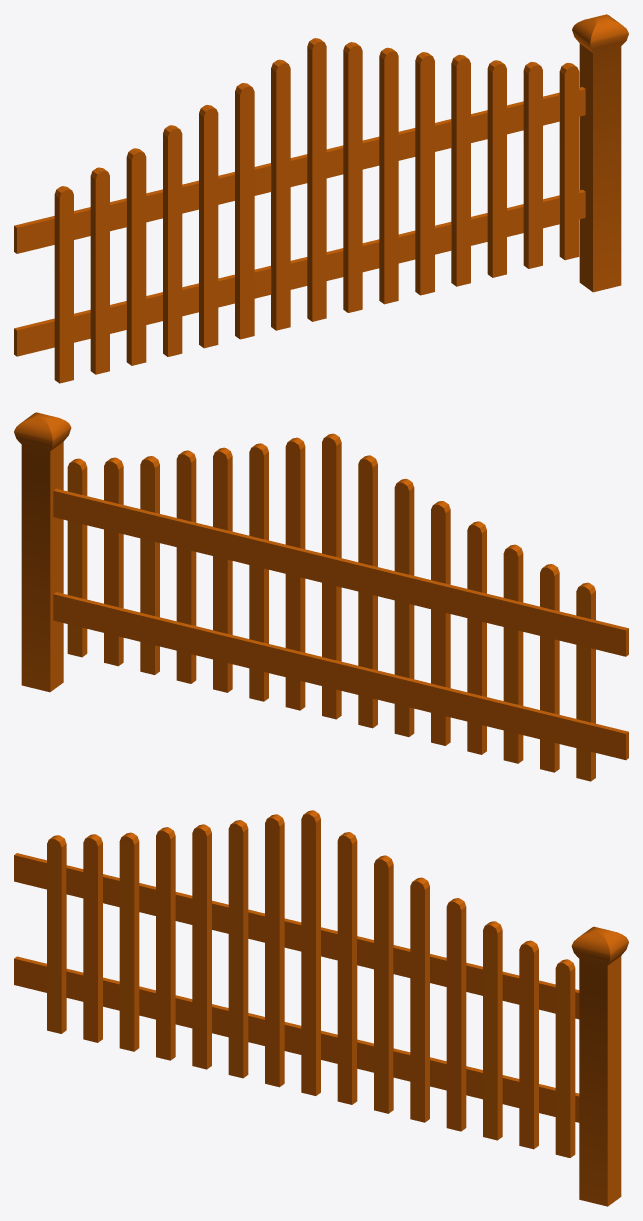
The model's file is Fence_4.2.fbx.
3 views of the same model, one above another, from view 1: azimuth 30°, elevation 25°; view 2: azimuth 150°, elevation 25°; view 3: azimuth 330°, elevation 25° (orthographic).
Visible parts, largest first — view 1: Fence_4_1; view 2: Fence_4_1; view 3: Fence_4_1.
Boxes of the visible parts, left/top/right/bottom form: Fence_4_1: left=14, top=14, right=628, bottom=383; Fence_4_1: left=14, top=412, right=628, bottom=781; Fence_4_1: left=14, top=810, right=628, bottom=1206.
Bounding box in the file's own units: 304 × 152 × 16.06.
Materials: 1 (1 with a texture image).
